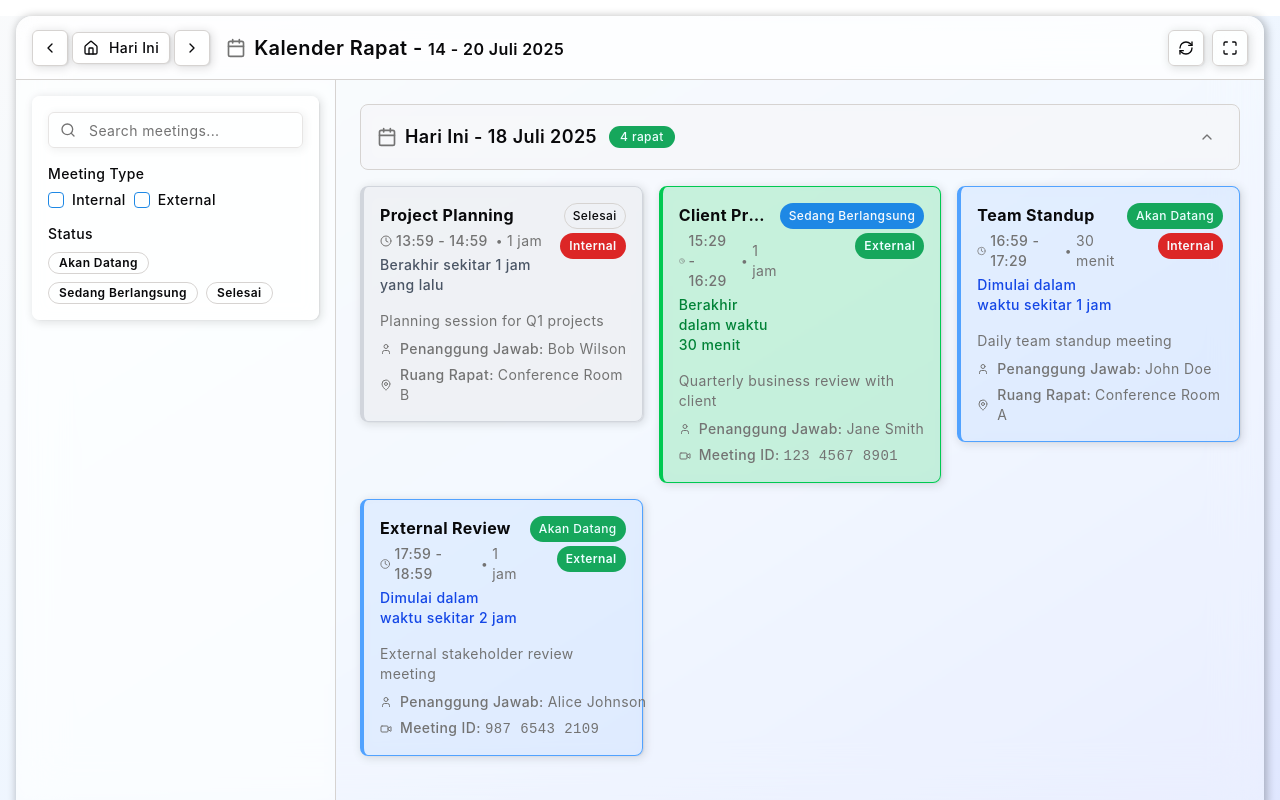
Test case: PublicCalendar Integration Tests › Search Functionality › should filter meetings by search term
The image size is (1280, 800).
Check: the heading "Team Standup" is shown, box [977,205,1095,225]
In the field with placeholder "Search meetings...": (176, 130) [48,112,303,148], type "Team"
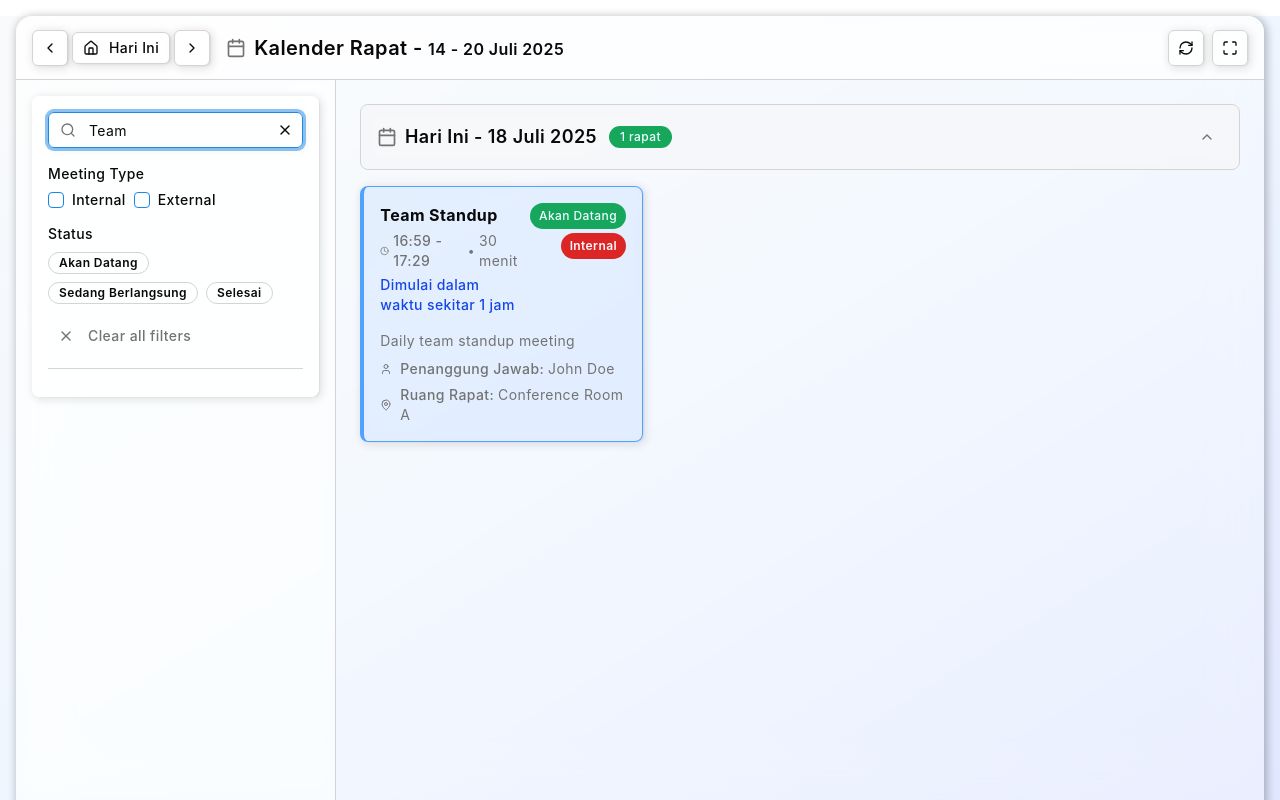
Check: the heading "Team Standup" is shown, box [380,205,497,225]
Check: the heading "Client Presentation" is gone
Check: the heading "Project Planning" is gone
